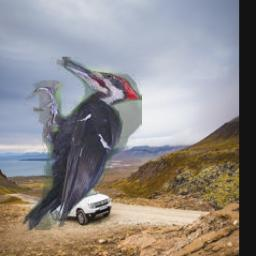Woodpecker: (22, 57, 141, 230)
